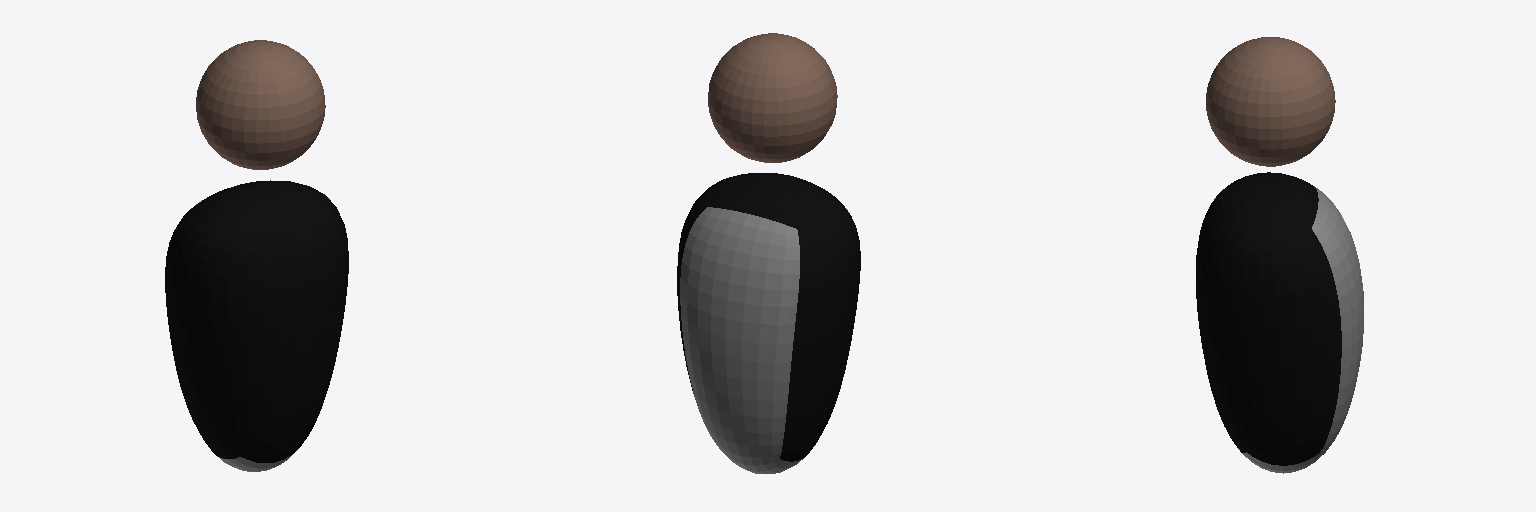
The model's file is avatar.obj.
The picture shows the model from 3 angles: view 1: azimuth 30°, elevation 25°; view 2: azimuth 150°, elevation 25°; view 3: azimuth 270°, elevation 25°; orthographic projection.
Parts seen in each view (by area): view 1: Cube, Sphere; view 2: Cube, Sphere; view 3: Cube, Sphere.
Part boxes in pixels (left/top/right/bottom): Cube: left=165, top=180, right=348, bottom=471; Sphere: left=196, top=40, right=325, bottom=169; Cube: left=677, top=173, right=860, bottom=473; Sphere: left=708, top=33, right=837, bottom=162; Cube: left=1196, top=172, right=1363, bottom=473; Sphere: left=1206, top=37, right=1335, bottom=166.
Bounding box in the file's own units: 1.78 × 4.53 × 1.63.